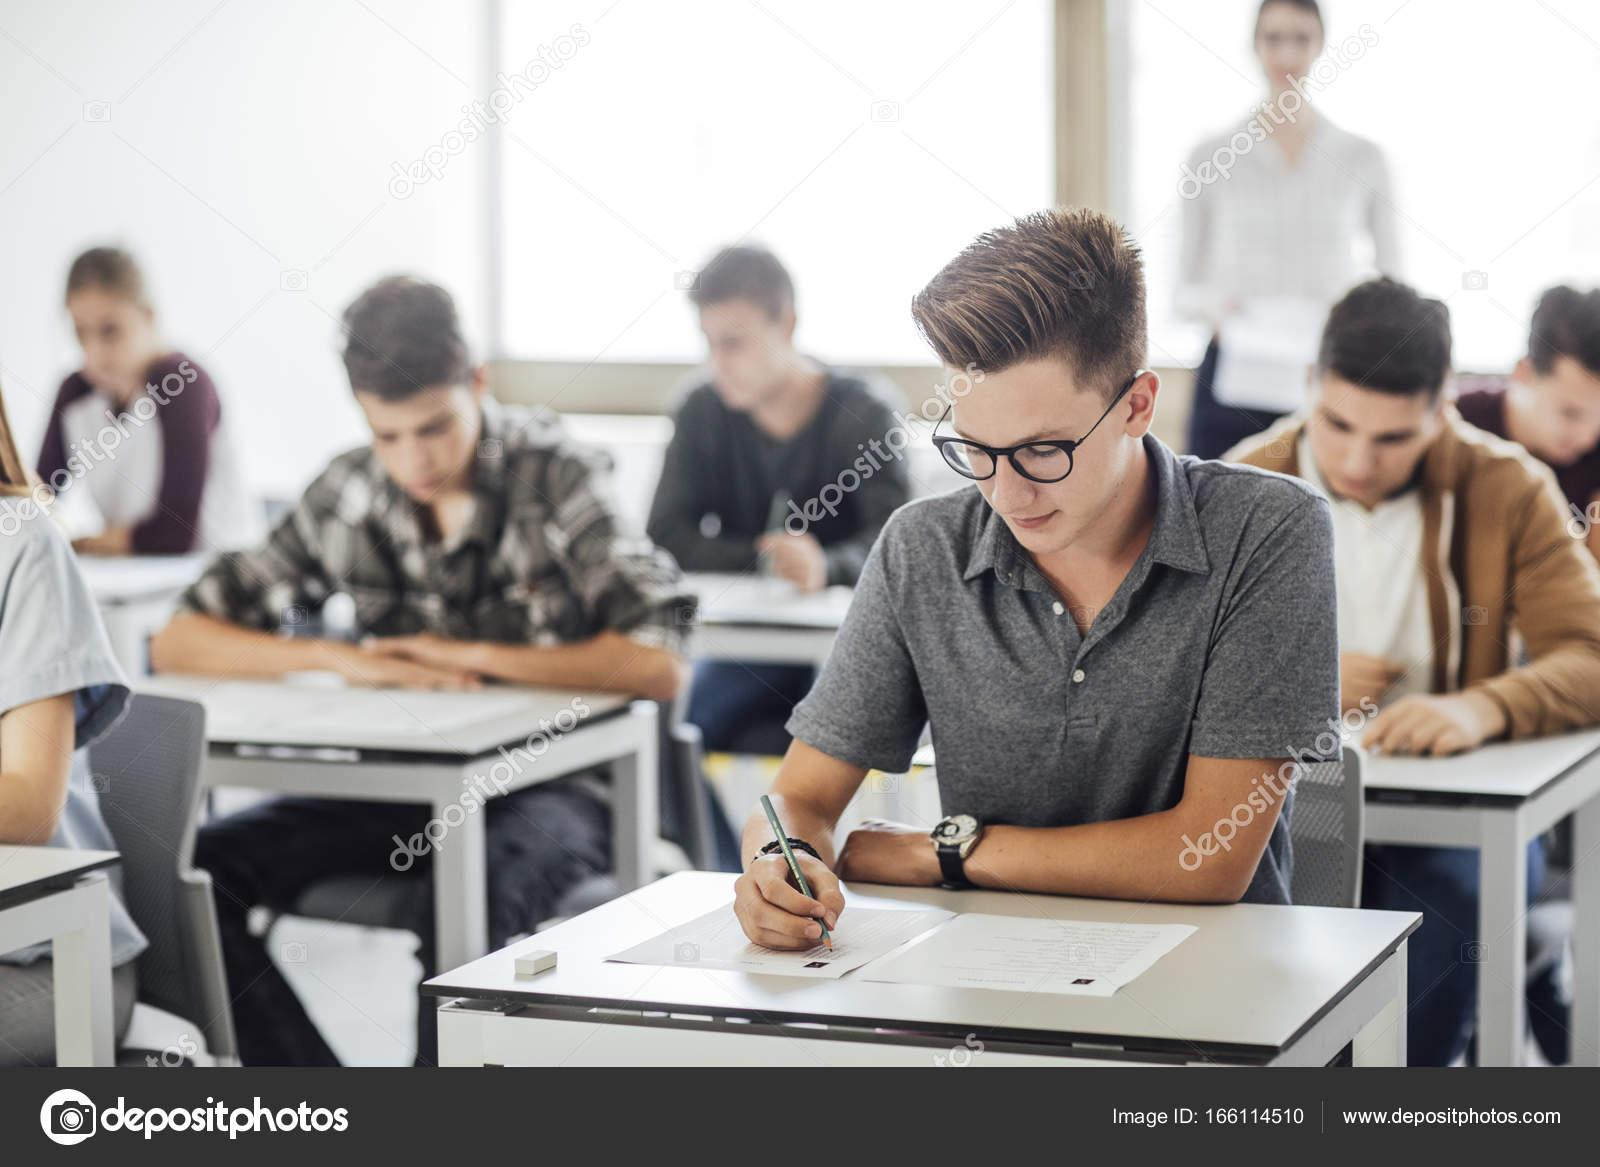invigilator: (1188, 2, 1411, 414)
student: (713, 202, 1346, 971), (232, 239, 651, 742), (1247, 255, 1600, 778), (593, 214, 894, 615), (19, 217, 308, 567)
